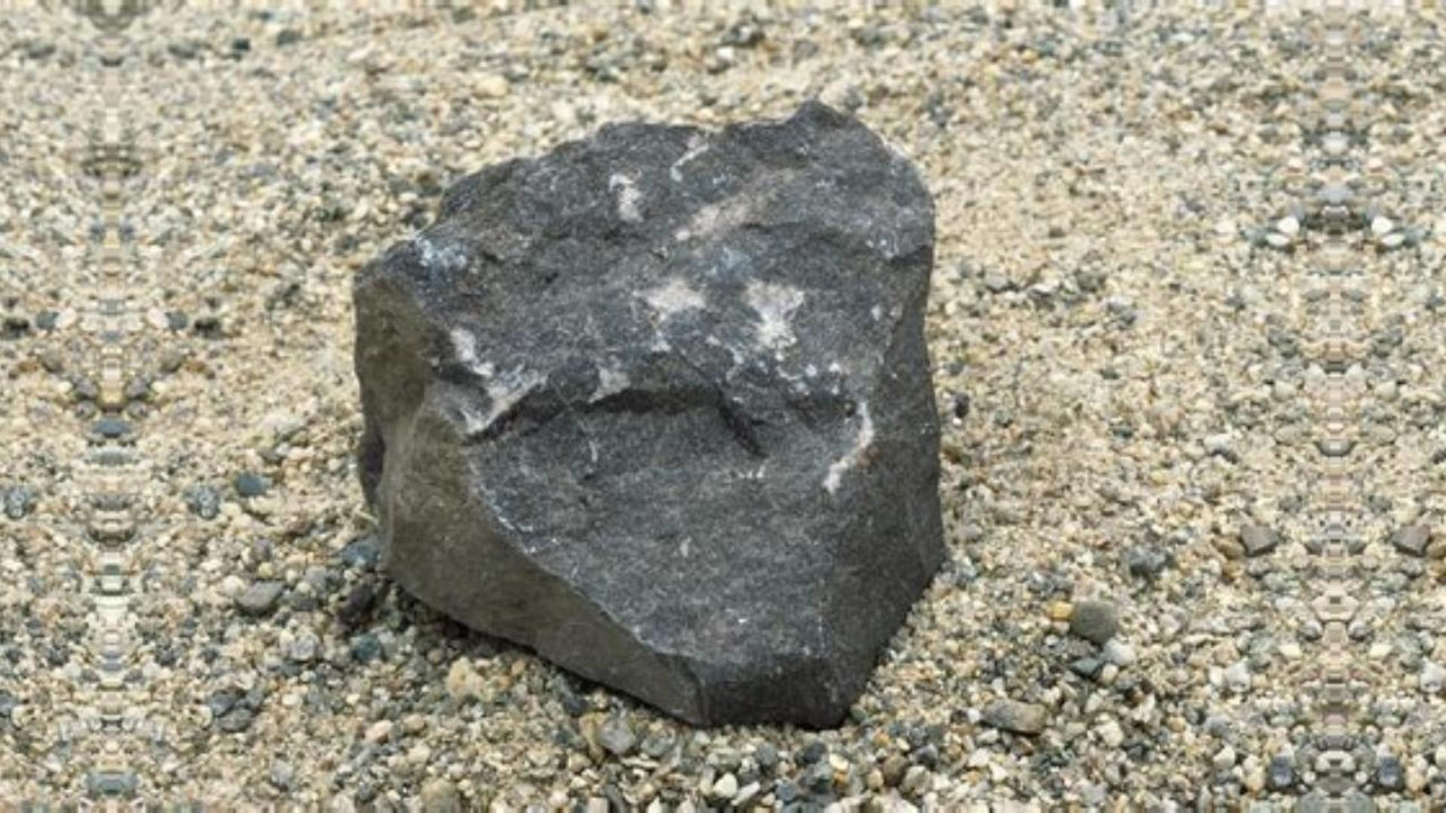rock: (355, 103, 942, 725)
